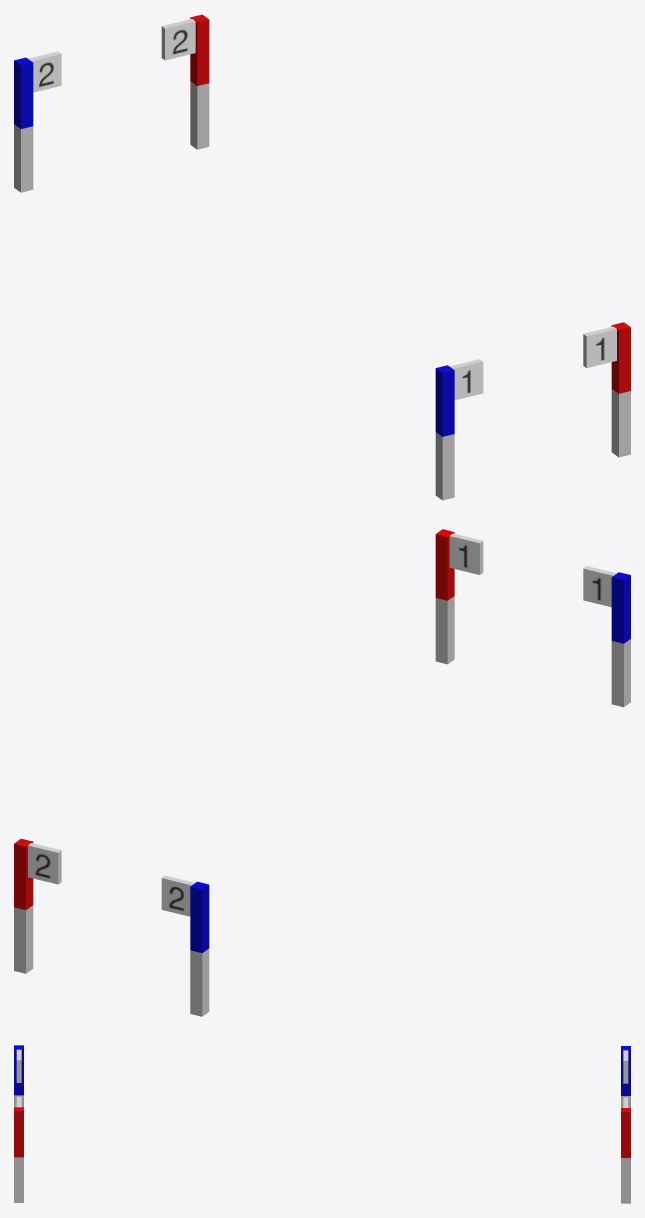
File: R3A_frag.dae
3 renders of one model, top to bottom at view 1: azimuth 30°, elevation 25°; view 2: azimuth 150°, elevation 25°; view 3: azimuth 270°, elevation 25°, orthographic. The views are drawn at different scales.
Visible parts, largest first — view 1: Model, Group1, Group3, Group4, Group2; view 2: Model, Group1, Group3, Group2, Group4; view 3: Group2, Group4, Model, Group1, Group3.
Part boxes in pixels (x1,y1,x2,y2): Model: (28,19,616,400); Group1: (435,365,454,500); Group3: (14,57,33,192); Group4: (190,14,209,149); Group2: (611,322,630,457); Model: (28,533,616,916); Group1: (611,572,630,707); Group3: (190,881,209,1016); Group2: (435,529,454,664); Group4: (14,838,33,973); Group2: (14,1107,23,1202); Group4: (621,1108,630,1203); Model: (16,1049,628,1107); Group1: (14,1045,23,1107); Group3: (621,1046,630,1107).
Size of the model in its own units: 0.3101 by 1.22 by 0.2014.
